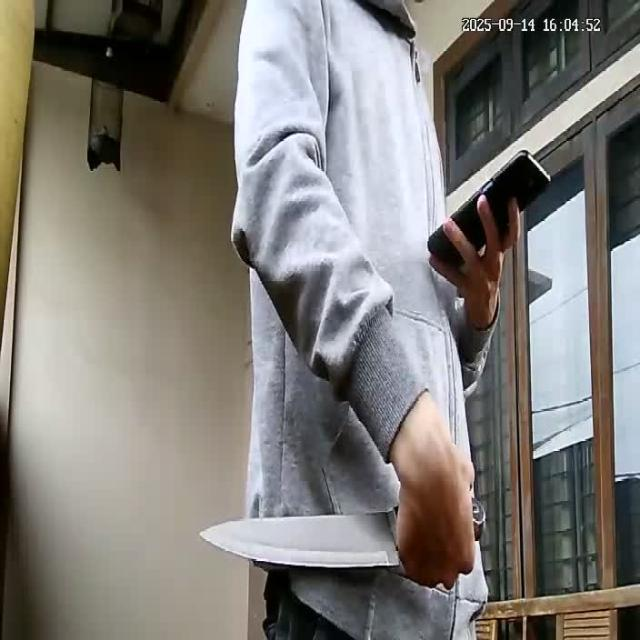senjata_tajam: (196, 504, 401, 568)
